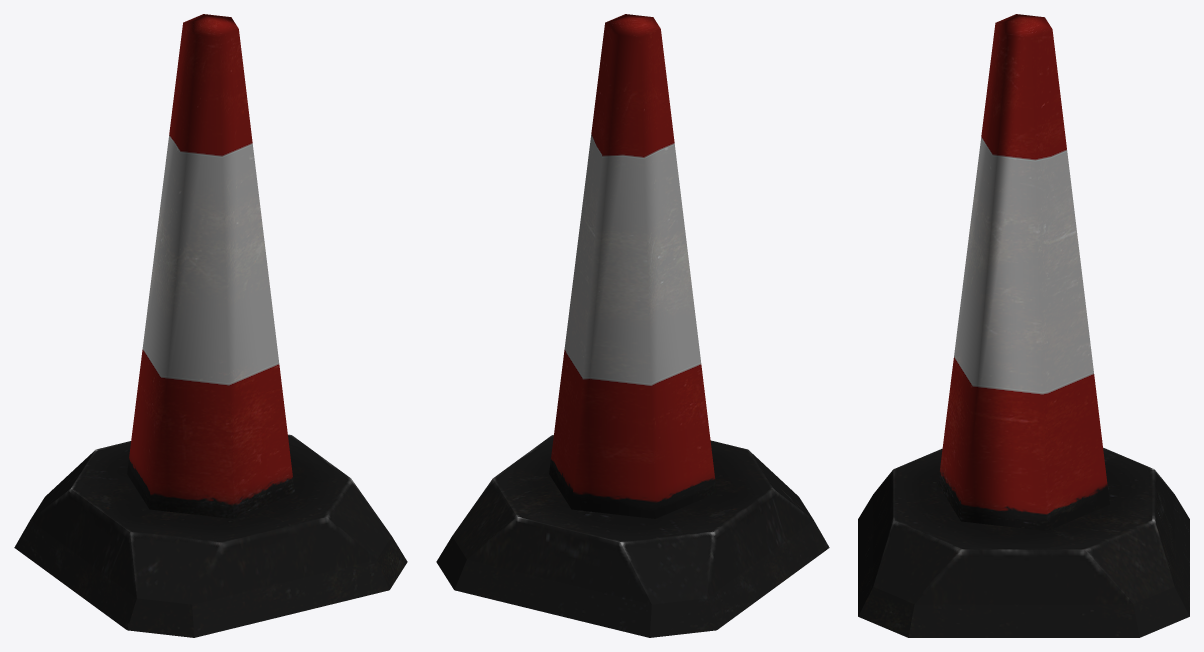
The model's file is Road_cones_LOD1.fbx.
The picture shows the model from 3 angles, left to right: view 1: azimuth 30°, elevation 25°; view 2: azimuth 150°, elevation 25°; view 3: azimuth 270°, elevation 25°; orthographic projection. The views are drawn at different scales.
Parts seen in each view (by area): view 1: Box02; view 2: Box02; view 3: Box02.
Part boxes in pixels (x1,y1,x2,y2): Box02: [14, 14, 407, 637]; Box02: [436, 14, 829, 637]; Box02: [858, 14, 1189, 637].
Size of the model in its own units: 0.5763 by 1.05 by 0.5763.
